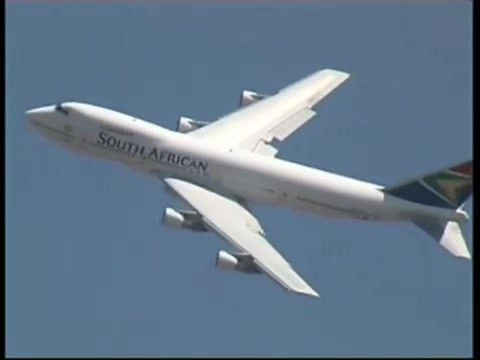aeroplane: (25, 69, 473, 300)
